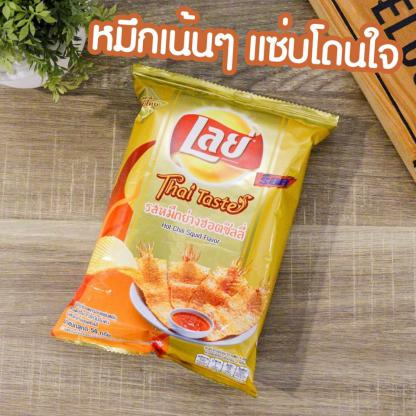potatochip: (49, 58, 339, 400)
